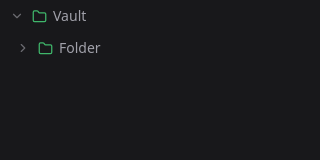
it: restores expanded folders after remount and keeps vault preferences separate
Later steps or results of the test are not shown.
Click the element showing "Folder" at point(58, 48), box [16, 38, 101, 57]
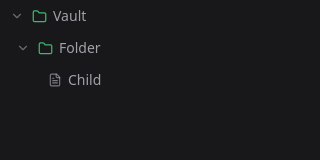
Check: the element showing "Child" is shown, box [48, 70, 101, 89]
